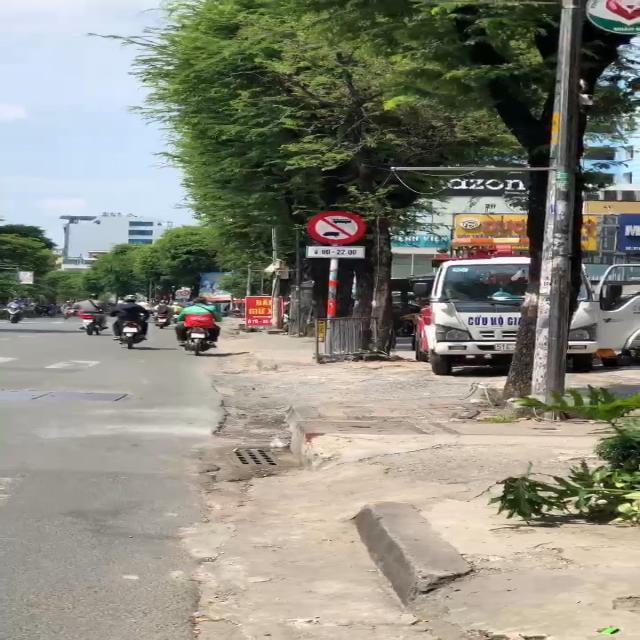Bien bao cam xe oto khach va xe oto tai: (304, 209, 374, 245)
